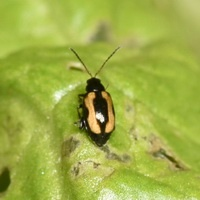insect: (70, 47, 119, 146)
